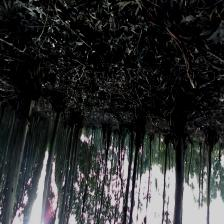trunk: (2, 100, 34, 220), (41, 111, 61, 205), (173, 127, 185, 222), (124, 134, 134, 217), (132, 139, 142, 196), (207, 148, 212, 216)
